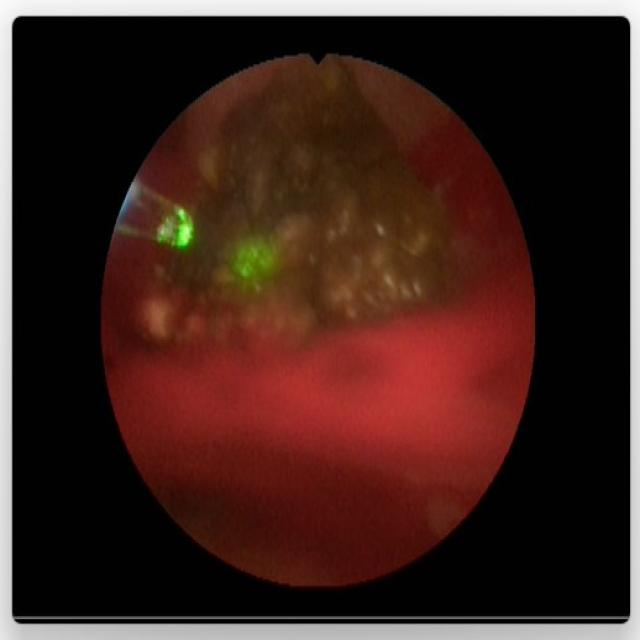stone: (160, 72, 444, 328)
